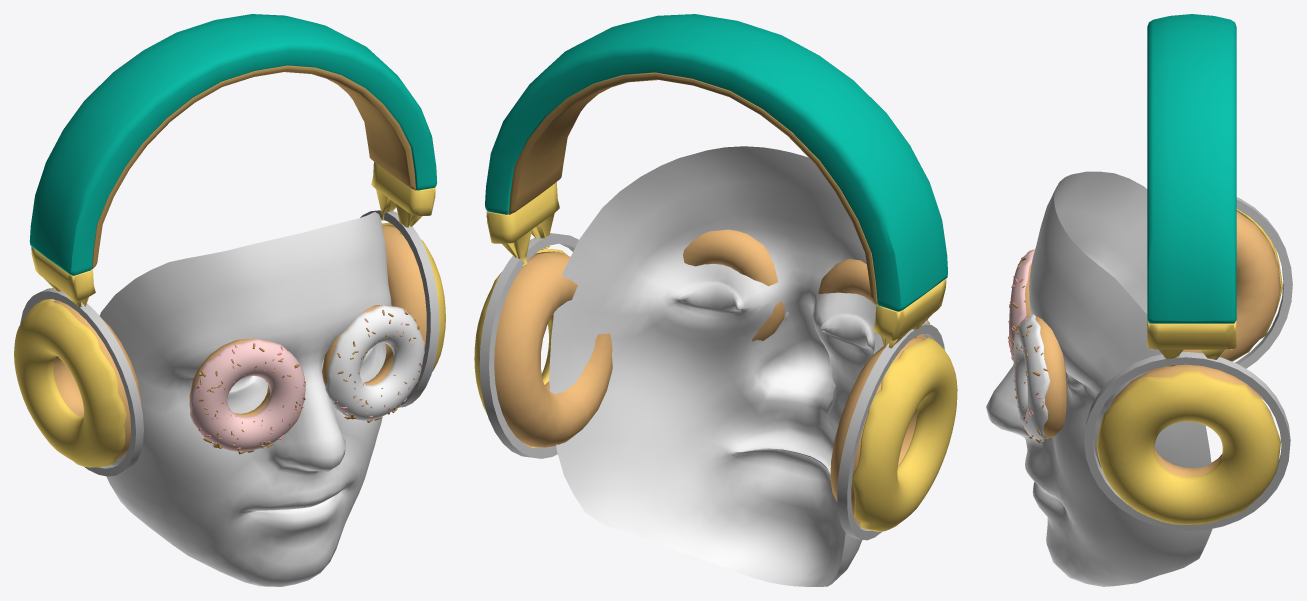
File: music.gltf
3 renders of one model, left to right at view 1: azimuth 30°, elevation 25°; view 2: azimuth 150°, elevation 25°; view 3: azimuth 270°, elevation 25°, orthographic. The views are drawn at different scales.
Parts seen in each view (by area): view 1: Big_Size, Top_band, CHOC, CHOC_4, CHOC_3, Band_cushon, Polygon_2, Tubo_1, DONA_2, Tubo, DONA, DONA_3 (+2 smaller); view 2: Big_Size, Top_band, CHOC, DONA_2, Band_cushon, Polygon_2, Tubo, DONA_3, Tubo_1, DONA, DONA_4, CHOC_2; view 3: Big_Size, Top_band, CHOC_2, Tubo, DONA, CHOC_3, Polygon_2, Tubo_1, DONA_3, DONA_2, CHOC_4.
Boxes of the visible parts, x1,y1,x2,y2 form: Big_Size: (100,212,391,586); Top_band: (29,14,437,275); CHOC: (14,299,126,467); CHOC_4: (190,339,305,451); CHOC_3: (325,305,424,420); Band_cushon: (92,65,415,269); Polygon_2: (31,162,435,314); Tubo_1: (20,288,143,476); DONA_2: (382,225,426,347); Tubo: (360,210,439,407); DONA: (53,300,141,459); DONA_3: (322,305,393,404); Big_Size: (549,146,883,586); Top_band: (485,14,947,311); CHOC: (852,337,957,531); DONA_2: (494,251,612,447); Band_cushon: (509,72,877,304); Polygon_2: (486,182,946,348); Tubo: (479,233,578,458); DONA_3: (683,229,785,341); Tubo_1: (837,322,944,540); DONA: (830,338,923,524); DONA_4: (818,259,924,352); CHOC_2: (474,249,567,448); Big_Size: (986,171,1212,586); Top_band: (1147,14,1236,323); CHOC_2: (1096,370,1280,524); Tubo: (1084,352,1290,530); DONA: (1146,211,1280,361); CHOC_3: (1013,314,1049,441); Polygon_2: (1147,320,1236,366); Tubo_1: (1235,197,1292,368); DONA_3: (1035,316,1066,438); DONA_2: (1110,364,1273,476); CHOC_4: (1009,249,1034,361).
Size of the model in its own units: 988 by 1302 by 674.
